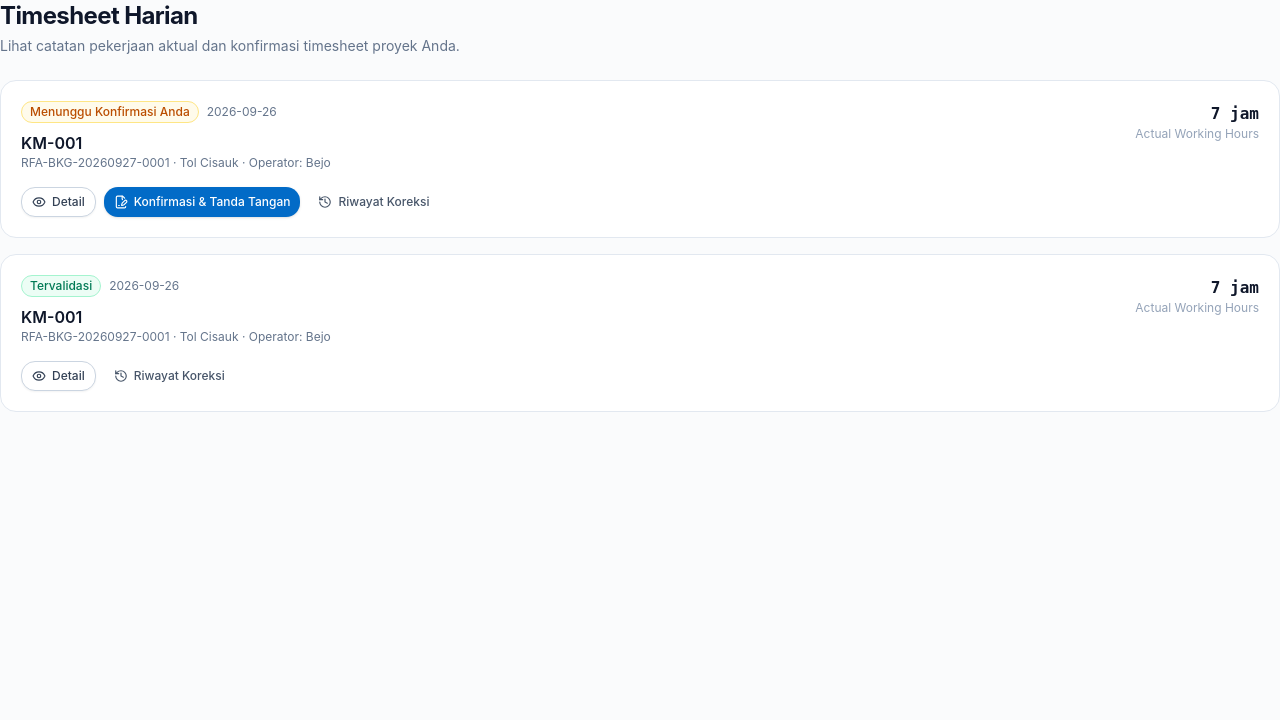
Test: User Timesheet UI (read + confirm only) › shows detail modal with actual working hours
Click the button "Detail" below "Menunggu Konfirmasi Anda". click: (58, 202)
box: [21, 187, 96, 217]
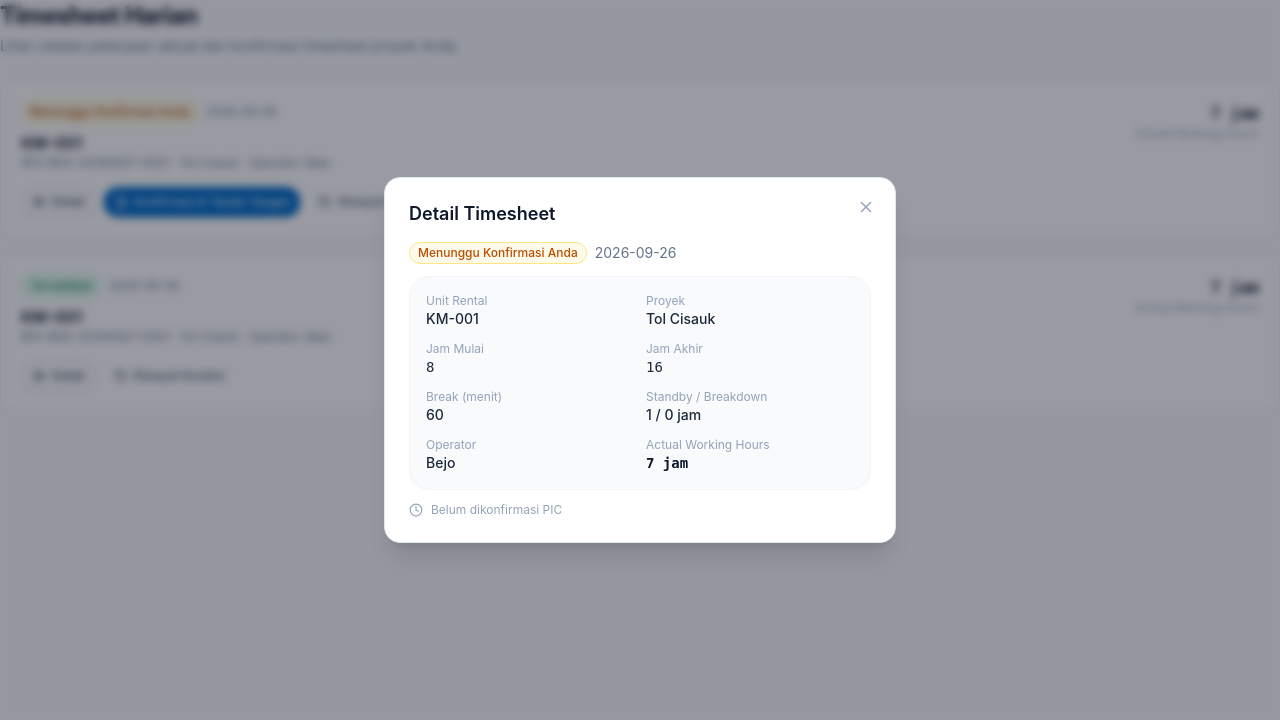
Check: the text "Standby / Breakdown" is shown, box [646, 389, 767, 404]
